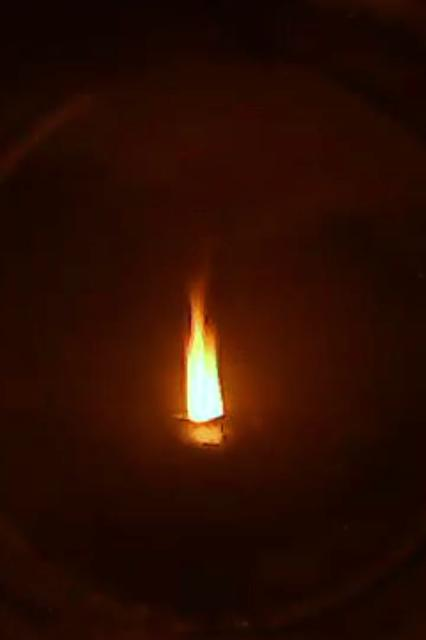burner flame: (180, 268, 228, 426)
